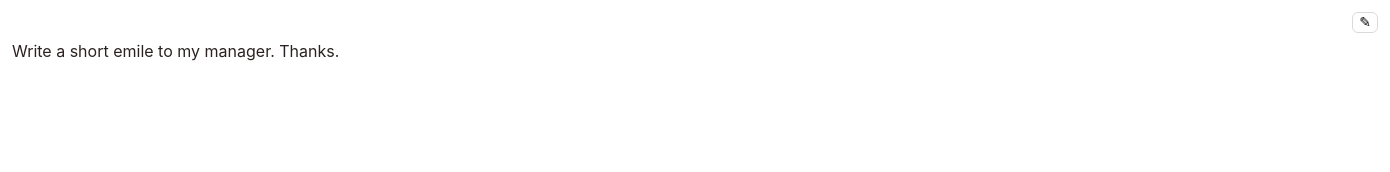
TranscriptView › word fixing › double-clicking a word opens an inline input holding that word
The width and height of the screenshot is (1390, 172).
Double-click the button with aria-label "Edit word emile" at point(133, 51), box [113,41,154,61]
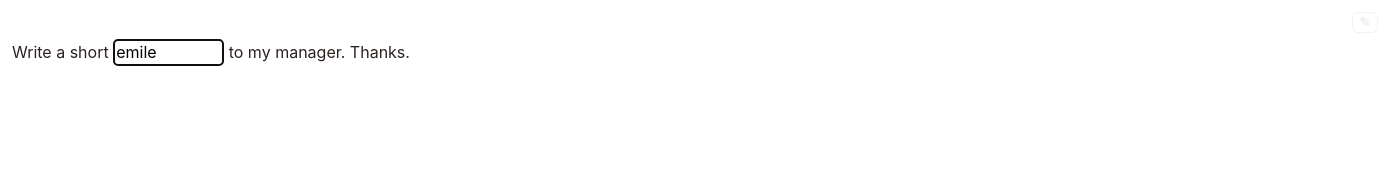
Now the field named "Replace word emile" holds "emile", box [113,39,224,66]
